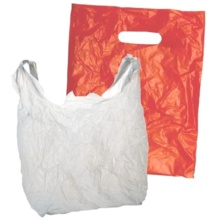plastic_bag: (61, 0, 209, 180), (6, 50, 155, 220)
